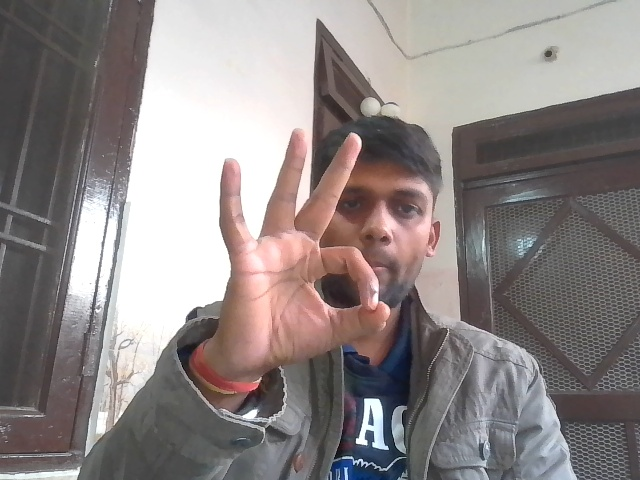Good: (200, 126, 389, 383)
